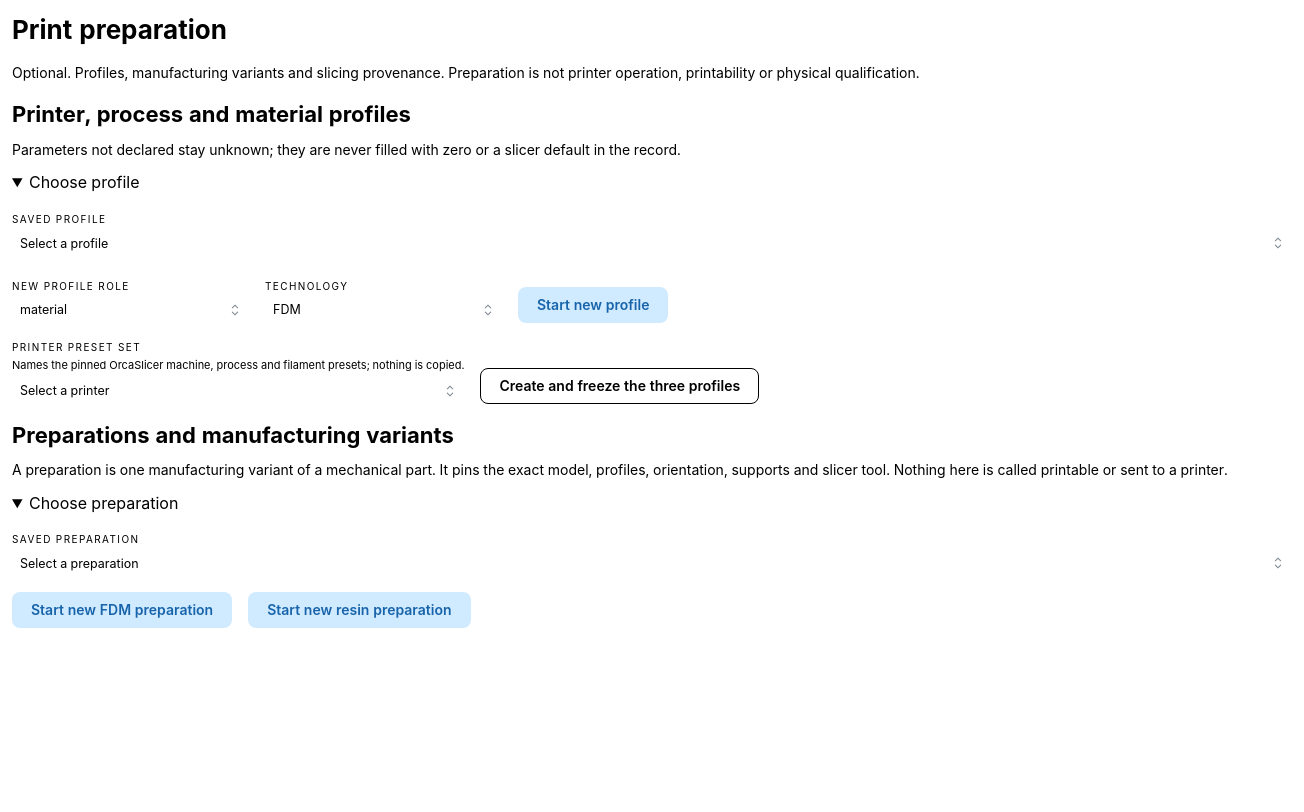
Test: the quick-setup notice names the whole preset set label, including a decimal nozzle size
Click the dropdown labelled "Printer preset set" at [238, 390], box [12, 378, 464, 404]
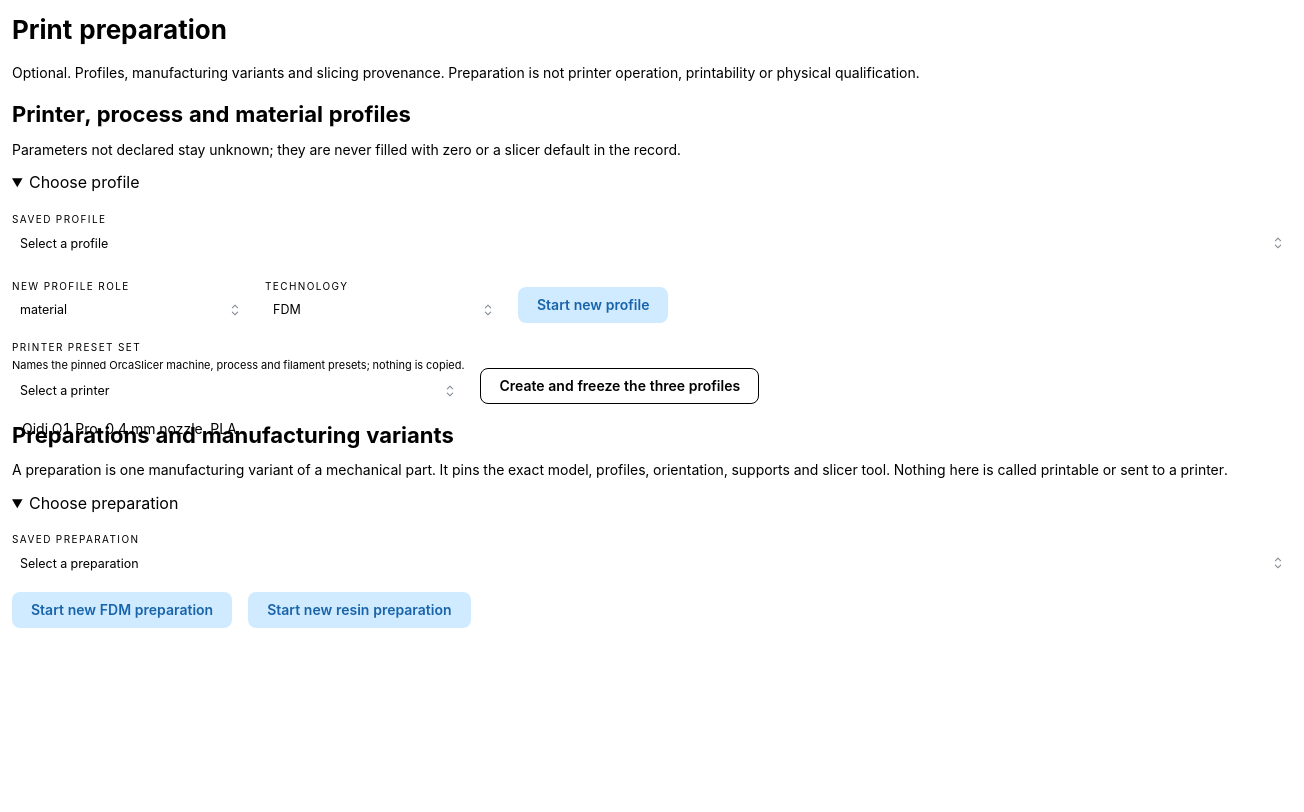
Click the option "Qidi Q1 Pro, 0.4 mm nozzle, PLA" at [129, 428], box [22, 420, 237, 436]
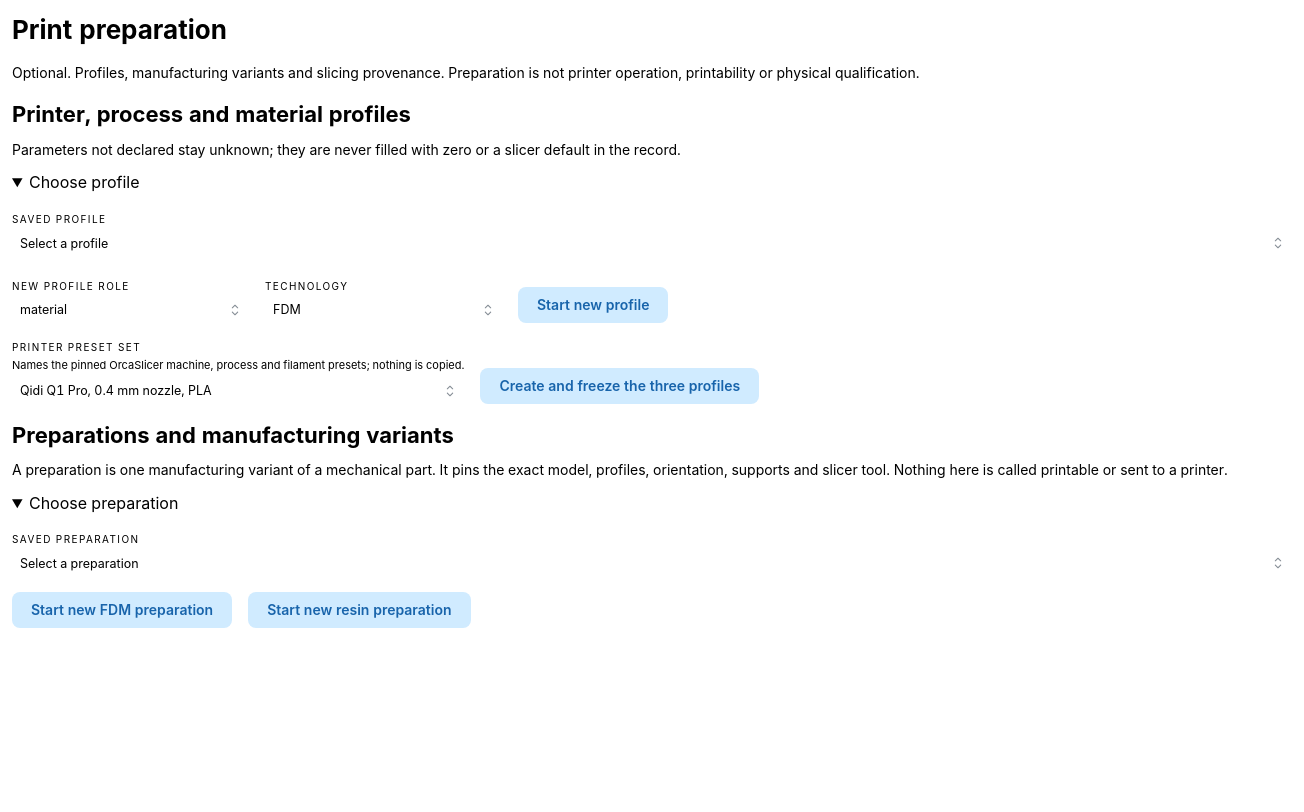
Click the button "Create and freeze the three profiles" at [620, 386], box [480, 368, 759, 404]
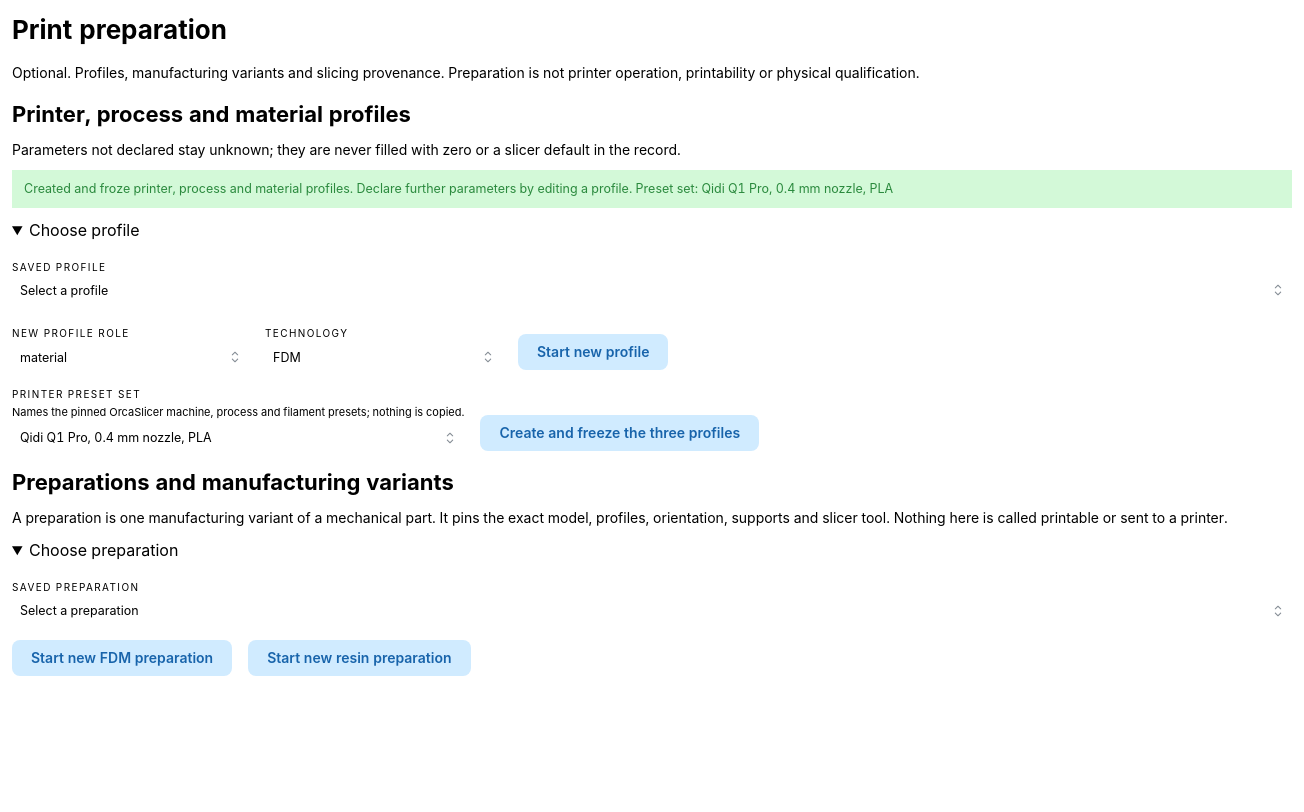
Expected: the message shows "Preset set: Qidi Q1 Pro, 0.4 mm nozzle, PLA", [24, 182, 893, 196]
